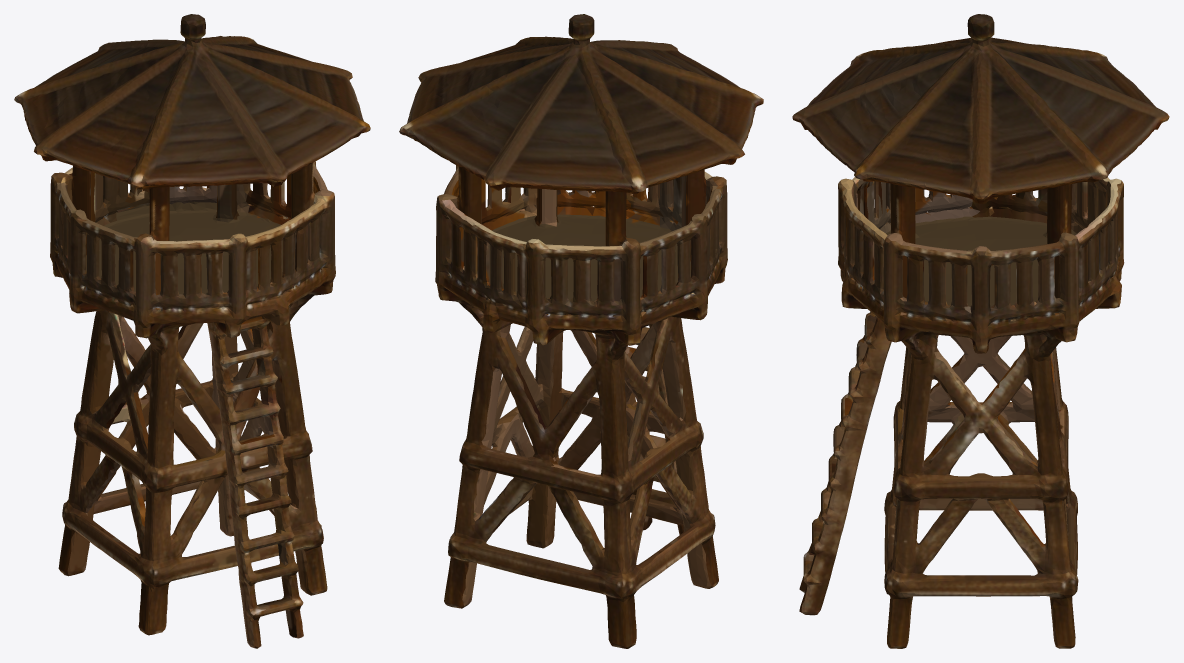
File: mdl_watchtower_001.glb
The picture shows the model from 3 angles, left to right: view 1: azimuth 30°, elevation 25°; view 2: azimuth 150°, elevation 25°; view 3: azimuth 270°, elevation 25°; orthographic projection. The views are drawn at different scales.
Visible parts, largest first — view 1: tmppzegzfhb.ply; view 2: tmppzegzfhb.ply; view 3: tmppzegzfhb.ply.
Boxes of the visible parts, <box> form: tmppzegzfhb.ply: <box>14,14,370,648</box>; tmppzegzfhb.ply: <box>399,14,763,648</box>; tmppzegzfhb.ply: <box>792,14,1169,648</box>.
Bounding box in the file's own units: 0.5804 × 0.9908 × 0.577.
Materials: 1 (1 with a texture image).
